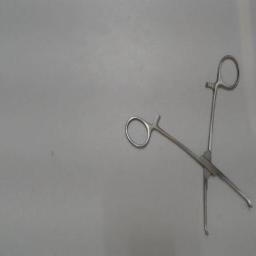Allis Tissue Forceps: (118, 50, 256, 244)
